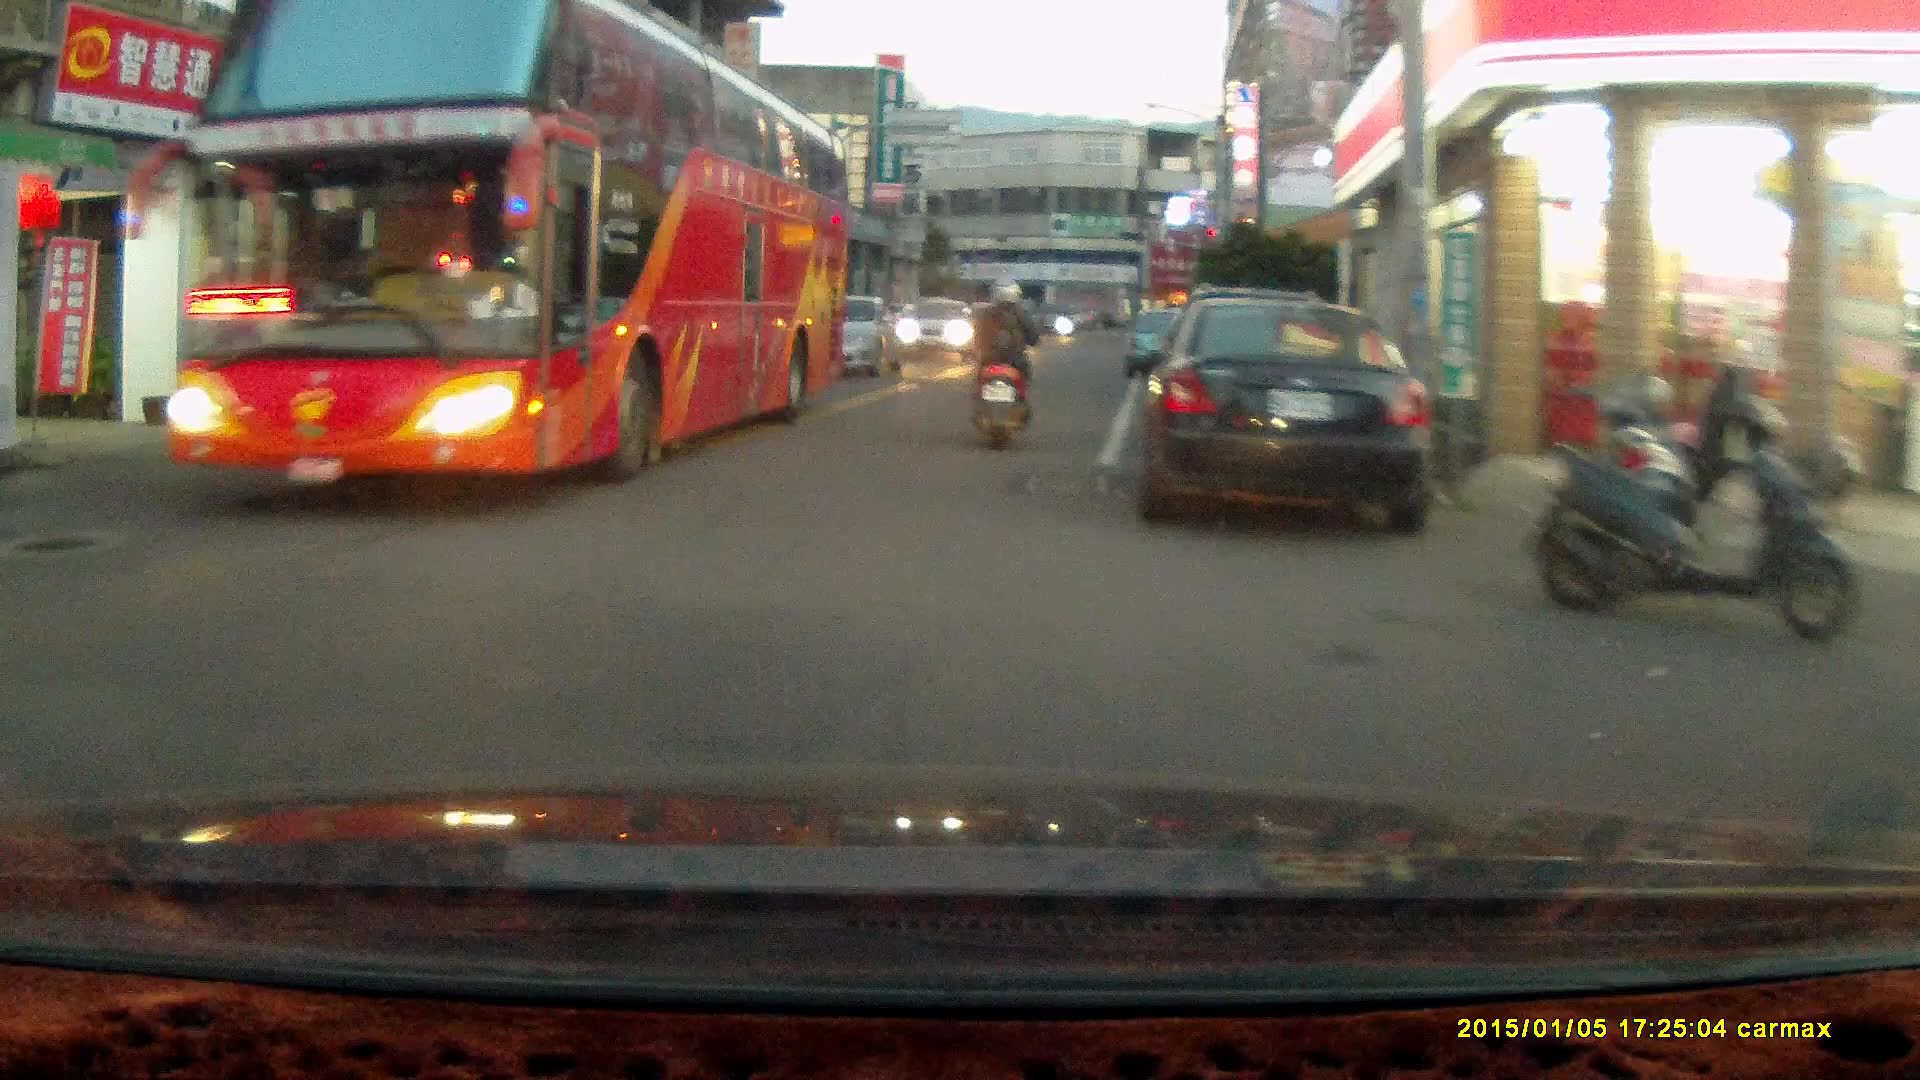rider: (963, 274, 1037, 453)
vehicle: (175, 3, 859, 499), (1114, 294, 1434, 538), (809, 295, 906, 380), (892, 295, 981, 361)
